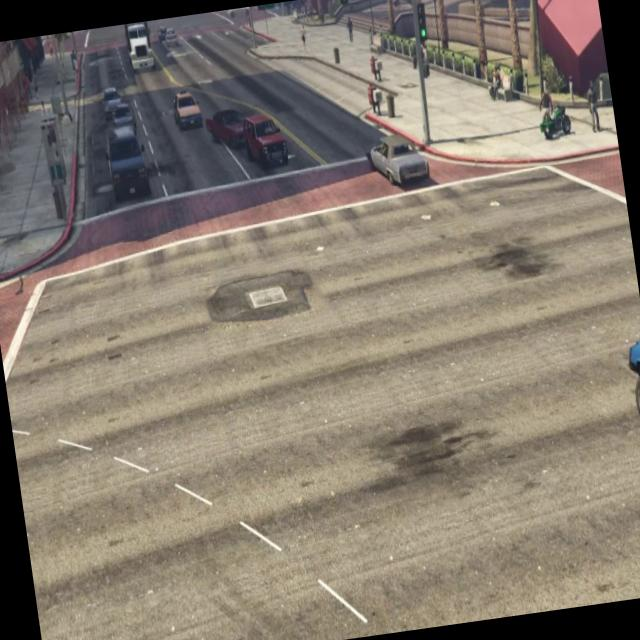Green-Signal: (412, 0, 433, 55), (255, 3, 279, 18), (337, 0, 355, 16)
